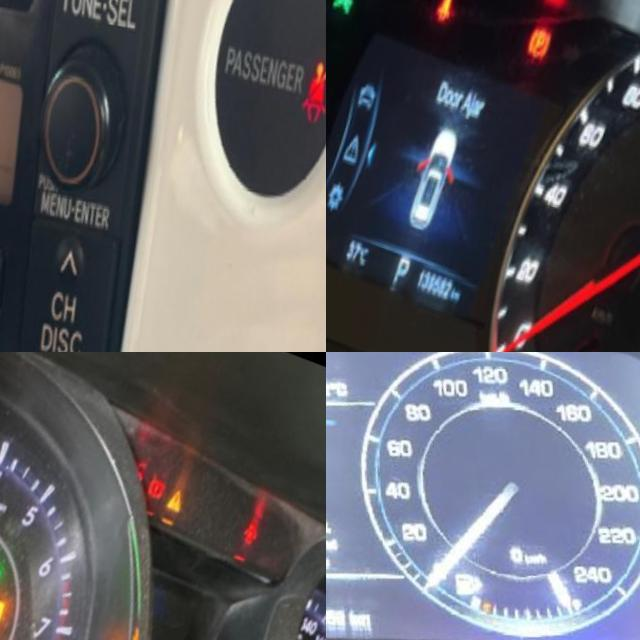Central Warning lamp: (169, 470, 195, 505)
Doors: (246, 495, 273, 534)
Low fuel level: (459, 550, 488, 580)
